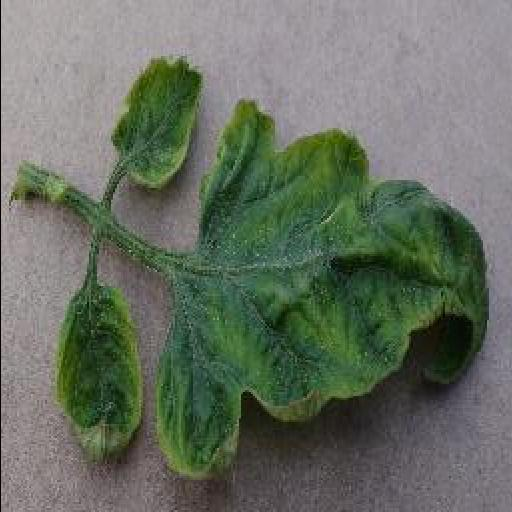disease_tomato: (156, 96, 492, 478), (52, 287, 148, 463), (114, 54, 206, 192)
